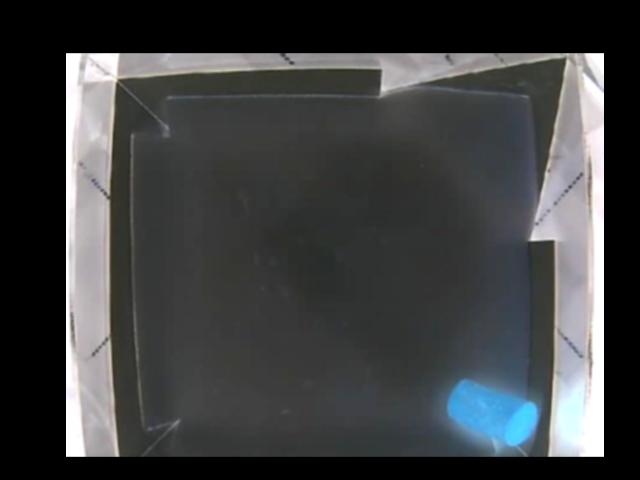Carrot: (448, 377, 538, 446)
